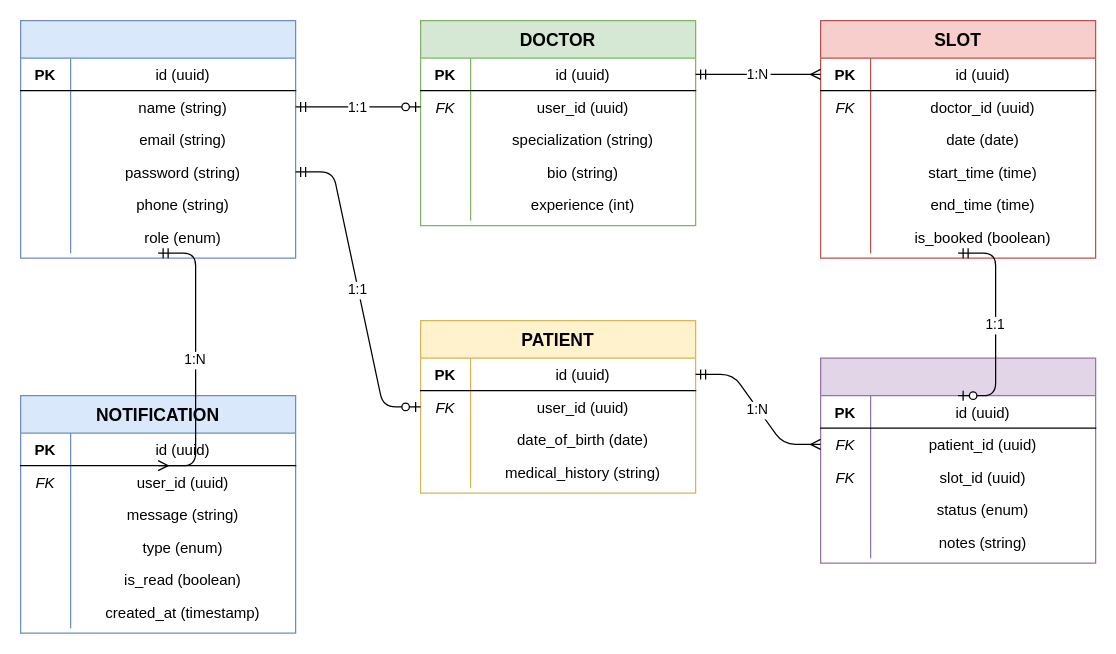
Some shapes in this 1116 by 654 pixel diagram are drawn without their labels. Each missing label, with the box of its shape:
APPOINTMENT: (819, 357, 1096, 563)
USER: (19, 19, 296, 258)
